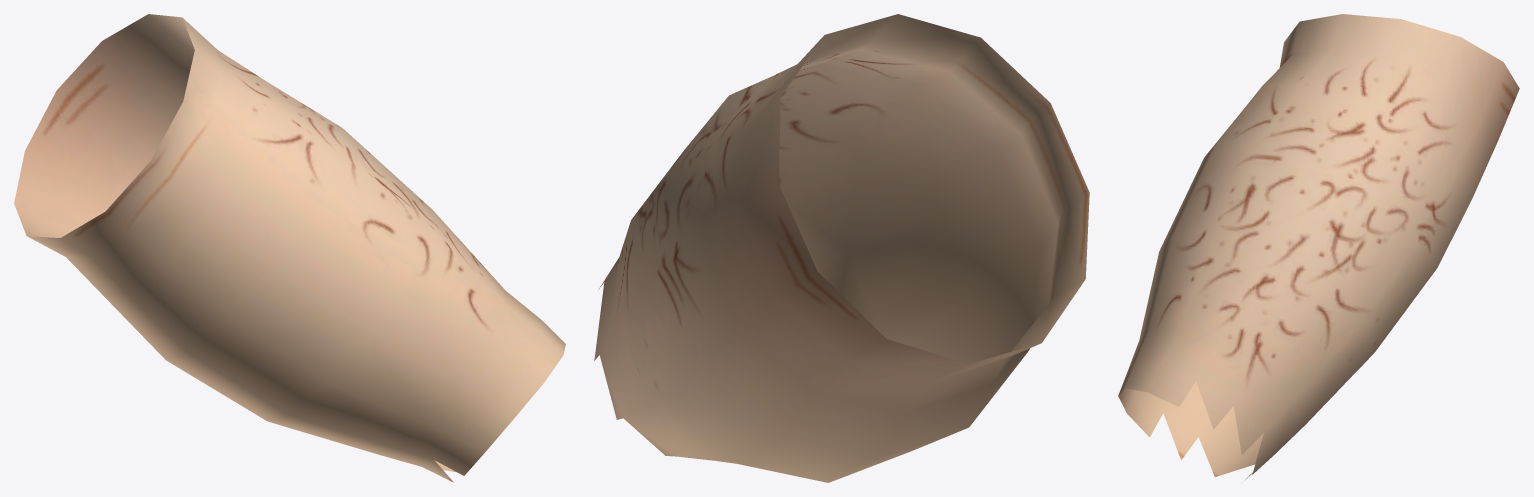
Rendered from crazydave_antebrazo_izq.obj.
The picture shows the model from 3 angles, left to right: view 1: azimuth 30°, elevation 25°; view 2: azimuth 150°, elevation 25°; view 3: azimuth 270°, elevation 25°; orthographic projection. The views are drawn at different scales.
Visible parts, largest first — view 1: crazydave_antebrazo_izq; view 2: crazydave_antebrazo_izq; view 3: crazydave_antebrazo_izq.
Boxes of the visible parts, x1,y1,x2,y2 form: crazydave_antebrazo_izq: (14,14,565,482); crazydave_antebrazo_izq: (594,14,1089,482); crazydave_antebrazo_izq: (1118,14,1519,480).
Size of the model in its own units: 0.3203 by 0.3066 by 0.2921.
